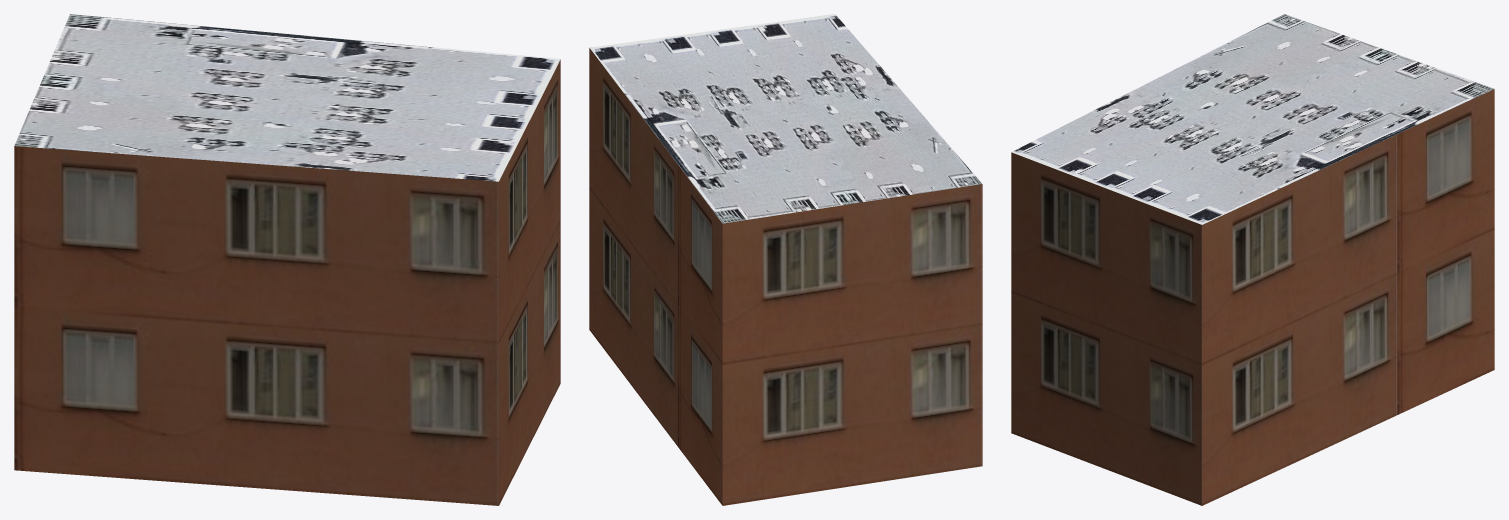
File: ResTex__4800.fbx
3 views of the same model, side by side, from view 1: azimuth 30°, elevation 25°; view 2: azimuth 150°, elevation 25°; view 3: azimuth 270°, elevation 25° (orthographic). The views are drawn at different scales.
Visible parts, largest first — view 1: CityEngineMaterial_20_m, CityEngineMaterial_m; view 2: CityEngineMaterial_20_m, CityEngineMaterial_m; view 3: CityEngineMaterial_20_m, CityEngineMaterial_m.
Part boxes in pixels (bbox=[...]): CityEngineMaterial_20_m: bbox=[14, 60, 560, 505]; CityEngineMaterial_m: bbox=[14, 14, 560, 181]; CityEngineMaterial_20_m: bbox=[589, 48, 982, 505]; CityEngineMaterial_m: bbox=[590, 14, 981, 223]; CityEngineMaterial_20_m: bbox=[1011, 89, 1494, 505]; CityEngineMaterial_m: bbox=[1011, 14, 1494, 224].
Size of the model in its own units: 9.66 by 6 by 9.36.
2 materials, 2 textured.
